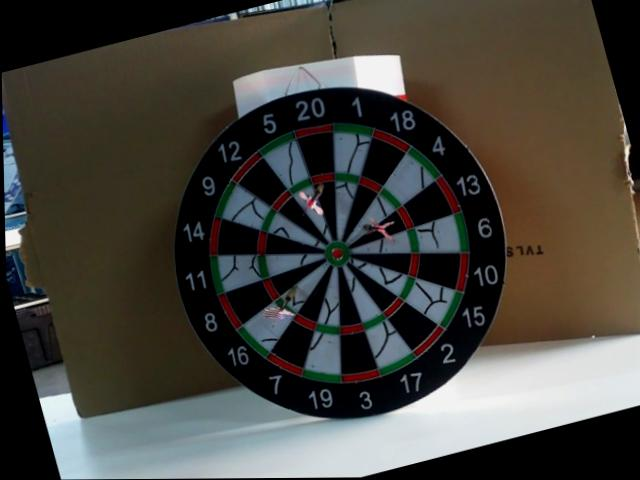single_16: (278, 264, 327, 313)
single_20: (316, 185, 342, 242)
single_4: (344, 197, 395, 247)
